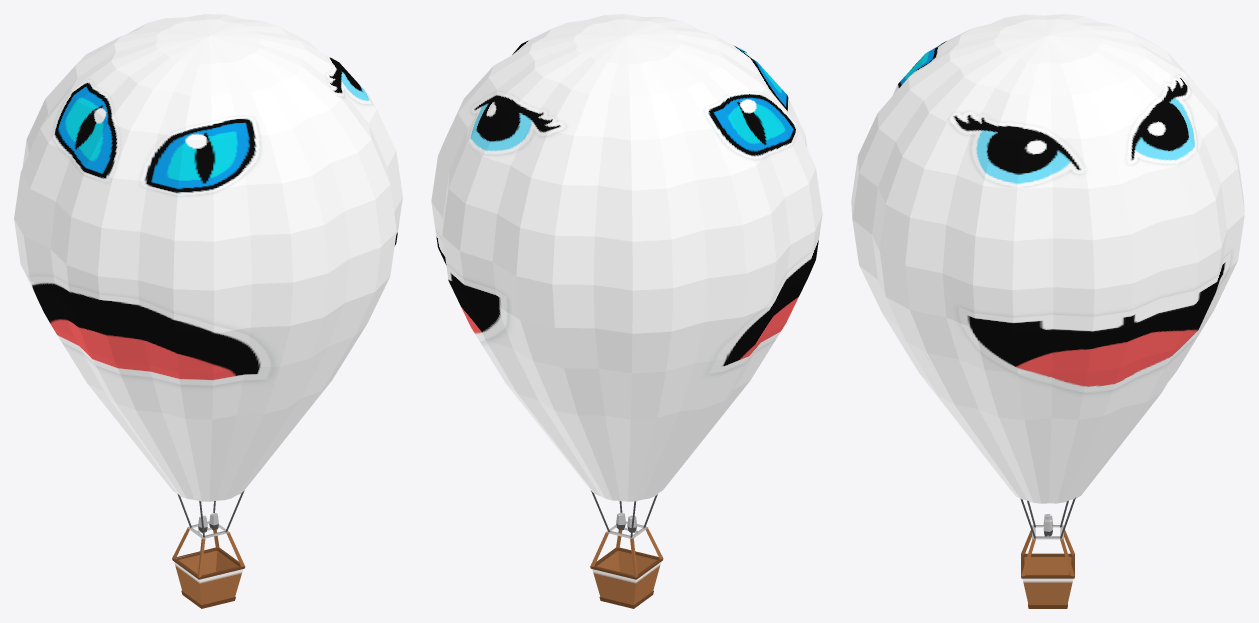
3 renders of one model, left to right at view 1: azimuth 30°, elevation 25°; view 2: azimuth 150°, elevation 25°; view 3: azimuth 270°, elevation 25°, orthographic.
Parts seen in each view (by area): view 1: Hot Air Balloon; view 2: Hot Air Balloon; view 3: Hot Air Balloon.
Part boxes in pixels (x1,y1,x2,y2): Hot Air Balloon: [14, 14, 402, 608]; Hot Air Balloon: [431, 14, 822, 608]; Hot Air Balloon: [851, 14, 1244, 608].
Bounding box in the file's own units: 11.56 × 18.57 × 11.72.
1 material, 1 textured.
